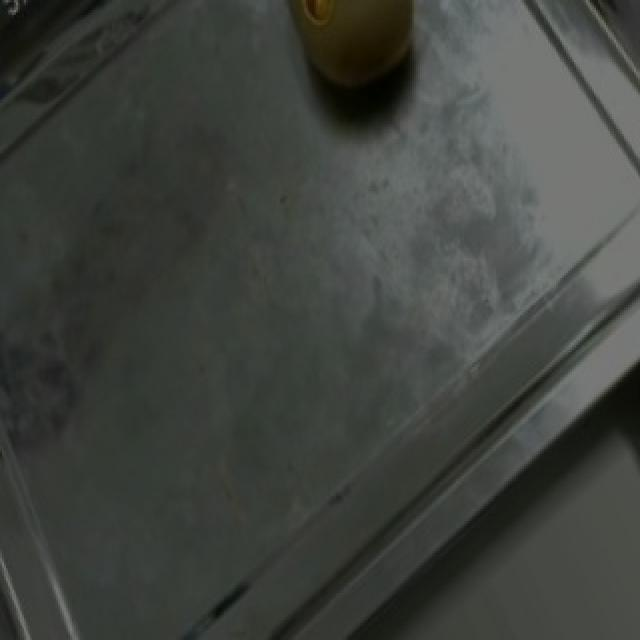Fruit: (262, 0, 460, 151)
